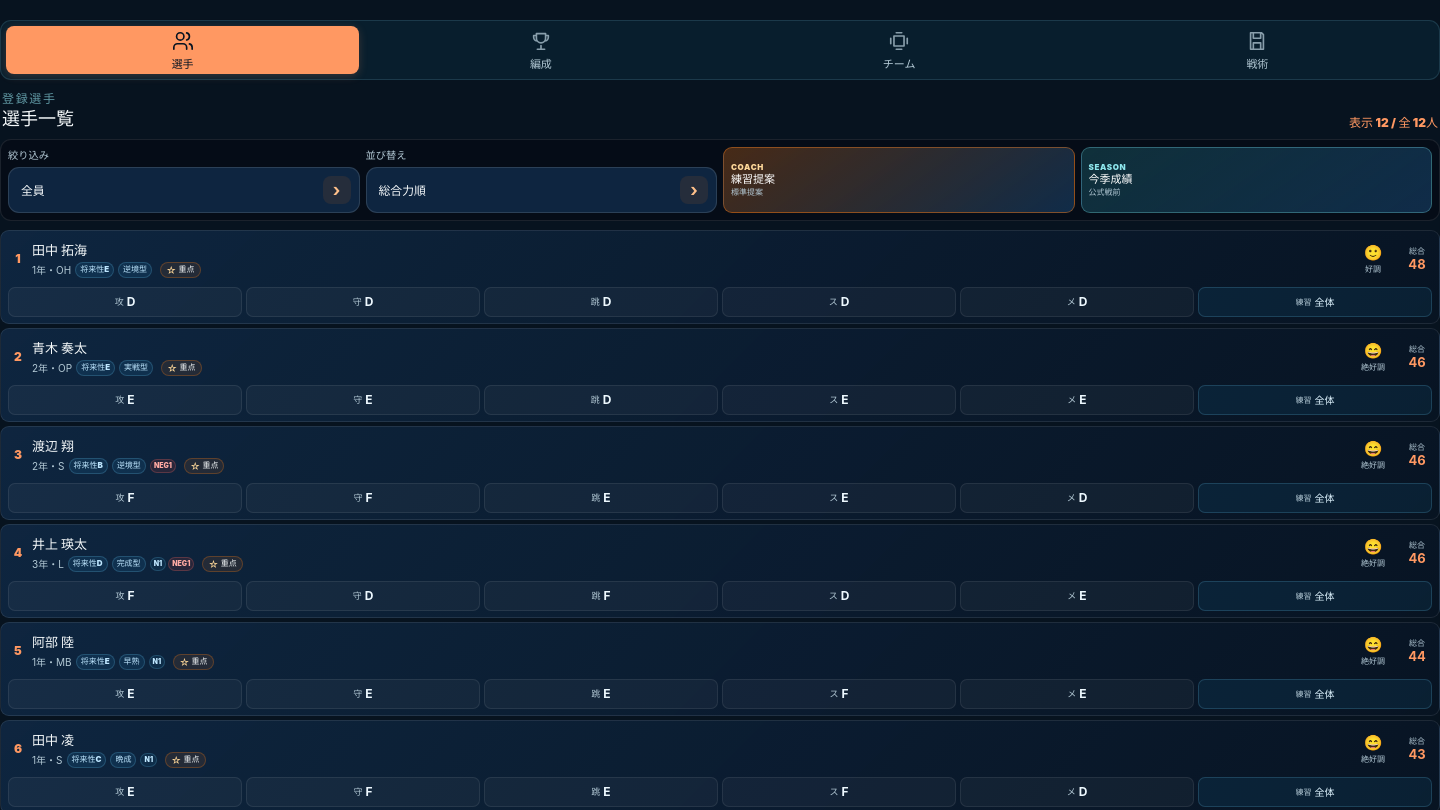
Test case: PlayerHubScreen › shows current ability grades and grouped four-week growth before changing individual training
Click the button "練習 全体" below "48" at x=1315, y=302, box [1198,287,1432,317]
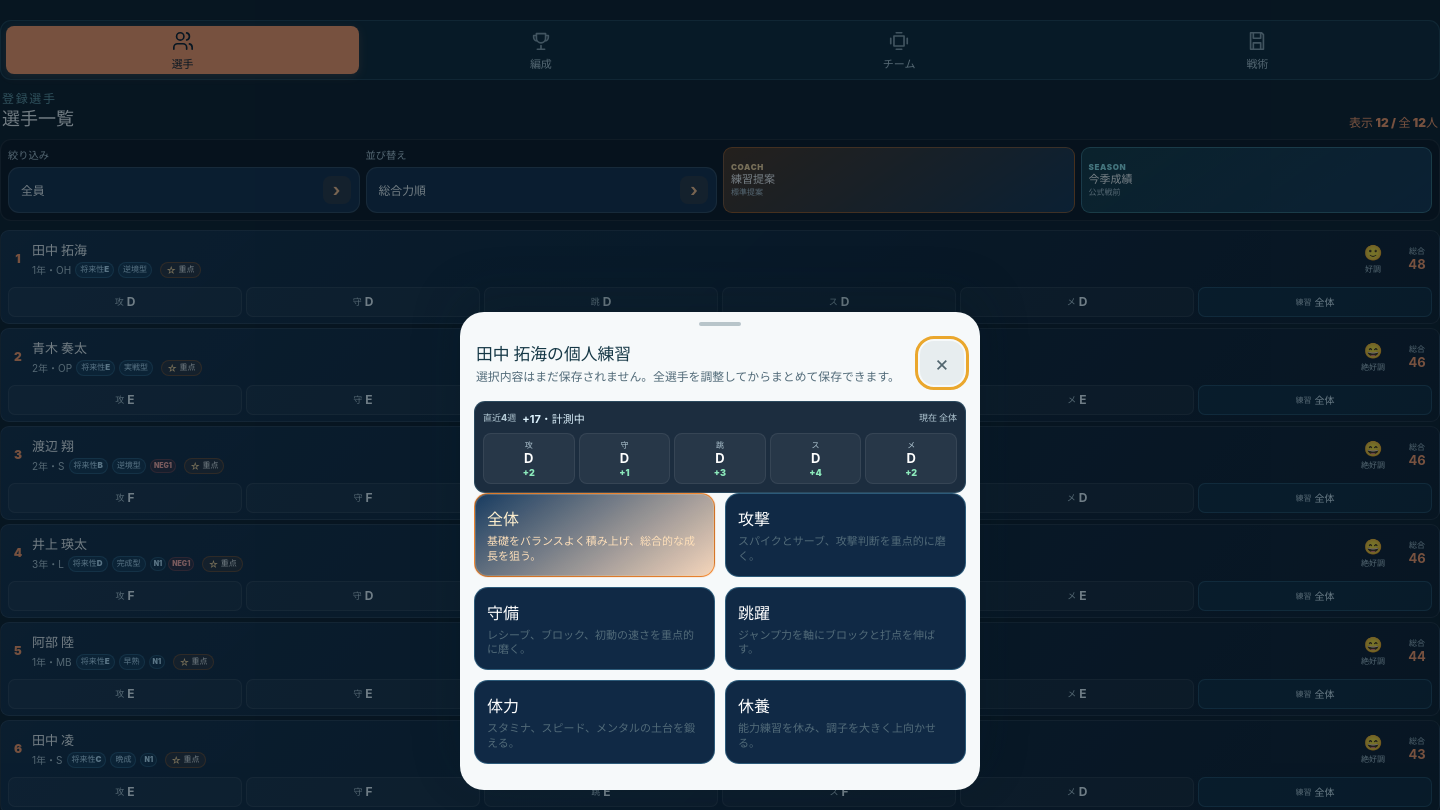
Result: the text "+17・計測中" is shown at [522,410,585,426]
